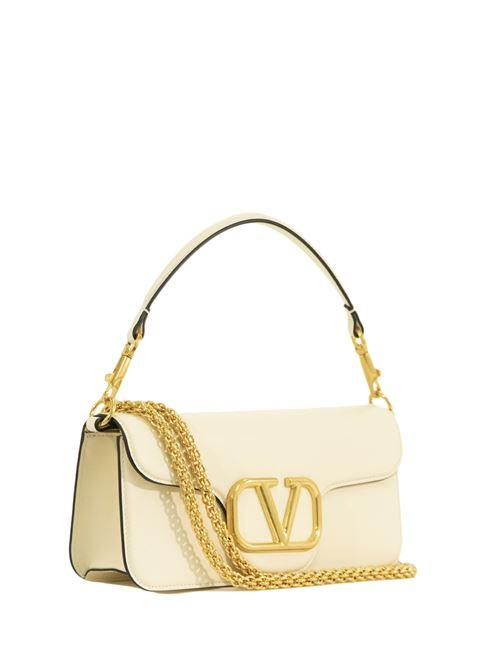VALENTINO: (226, 477, 322, 553)
